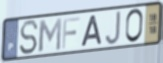A: (80, 14, 103, 48)
F: (61, 15, 81, 50)
J: (104, 10, 122, 47)
M: (38, 16, 63, 54)
O: (124, 7, 144, 44)
S: (18, 19, 40, 56)
